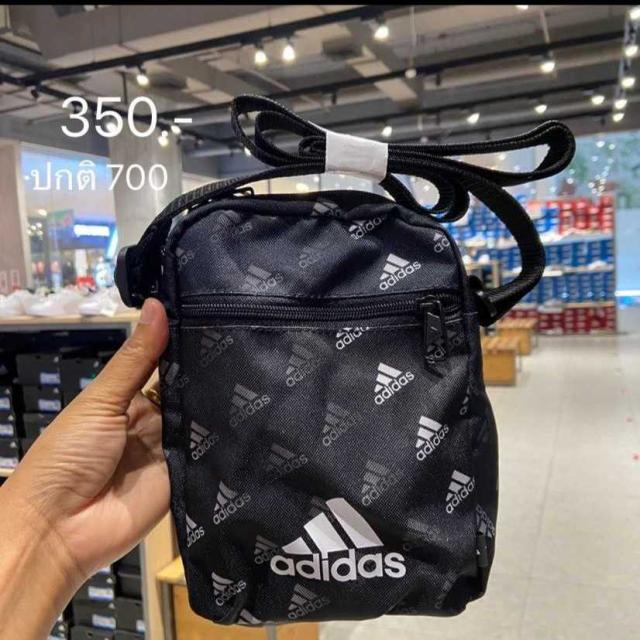Handbag: (124, 187, 504, 625)
